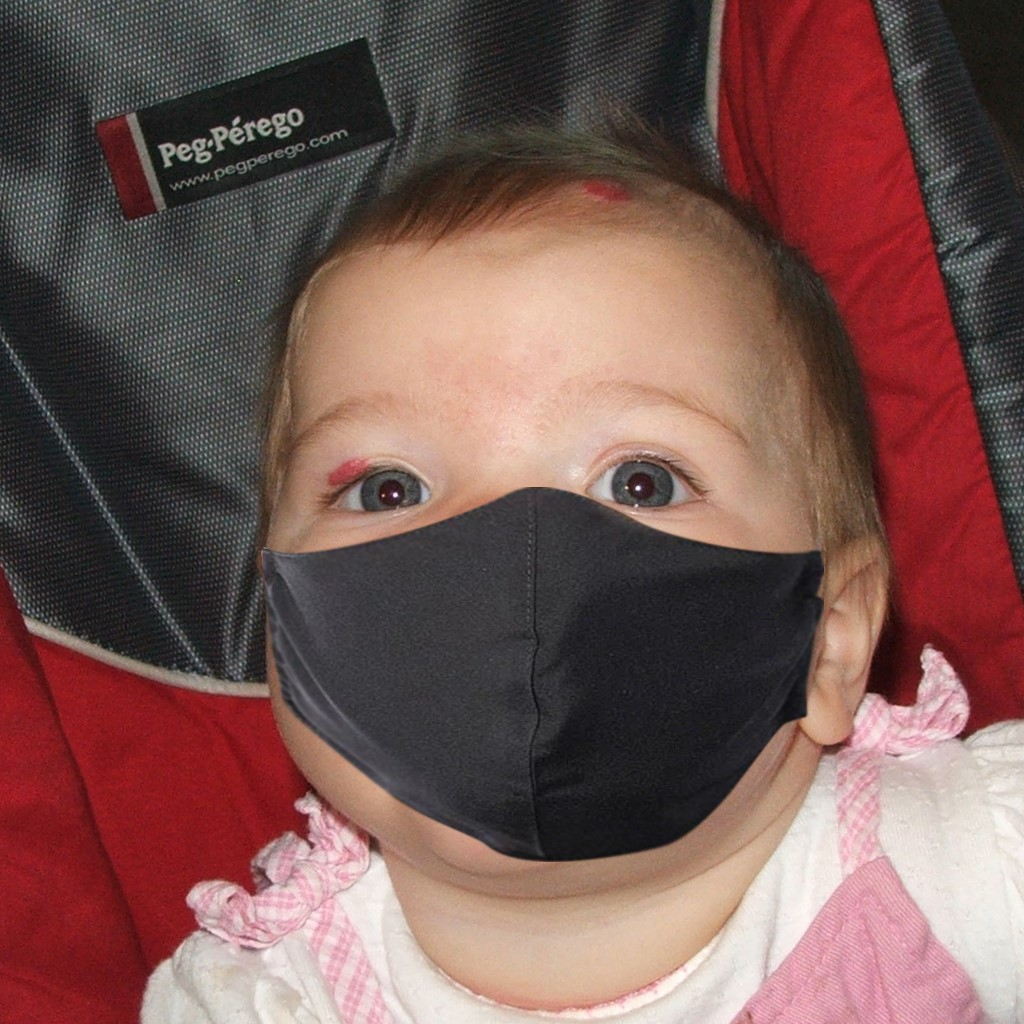con_mascara: (273, 255, 795, 881)
